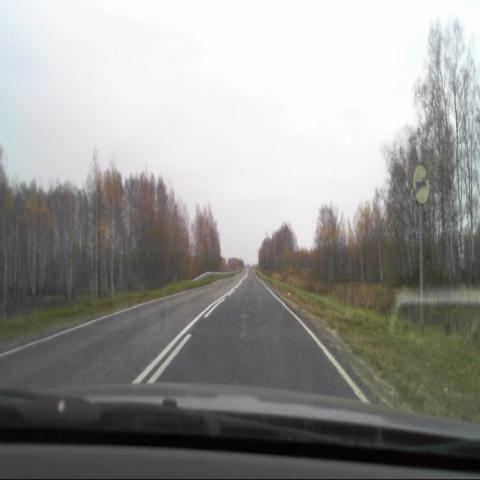3_21: (412, 163, 431, 207)
